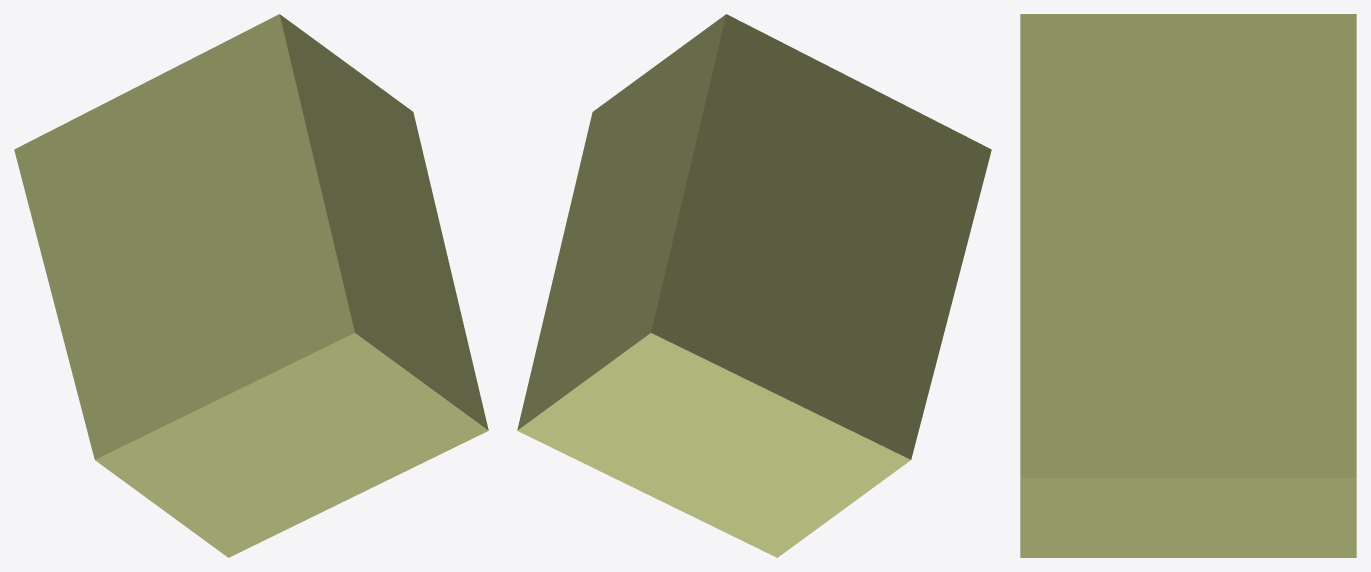
3 renders of one model, left to right at view 1: azimuth 30°, elevation 25°; view 2: azimuth 150°, elevation 25°; view 3: azimuth 270°, elevation 25°, orthographic. The views are drawn at different scales.
Parts seen in each view (by area): view 1: 0_1_0_1_3_3_0_0_3_3_3; view 2: 0_1_0_1_3_3_0_0_3_3_3; view 3: 0_1_0_1_3_3_0_0_3_3_3.
Part boxes in pixels (x1,y1,x2,y2): 0_1_0_1_3_3_0_0_3_3_3: [14, 14, 488, 557]; 0_1_0_1_3_3_0_0_3_3_3: [517, 14, 991, 557]; 0_1_0_1_3_3_0_0_3_3_3: [1020, 14, 1356, 557].
Bounding box in the file's own units: 8.82 × 9.92 × 6.
